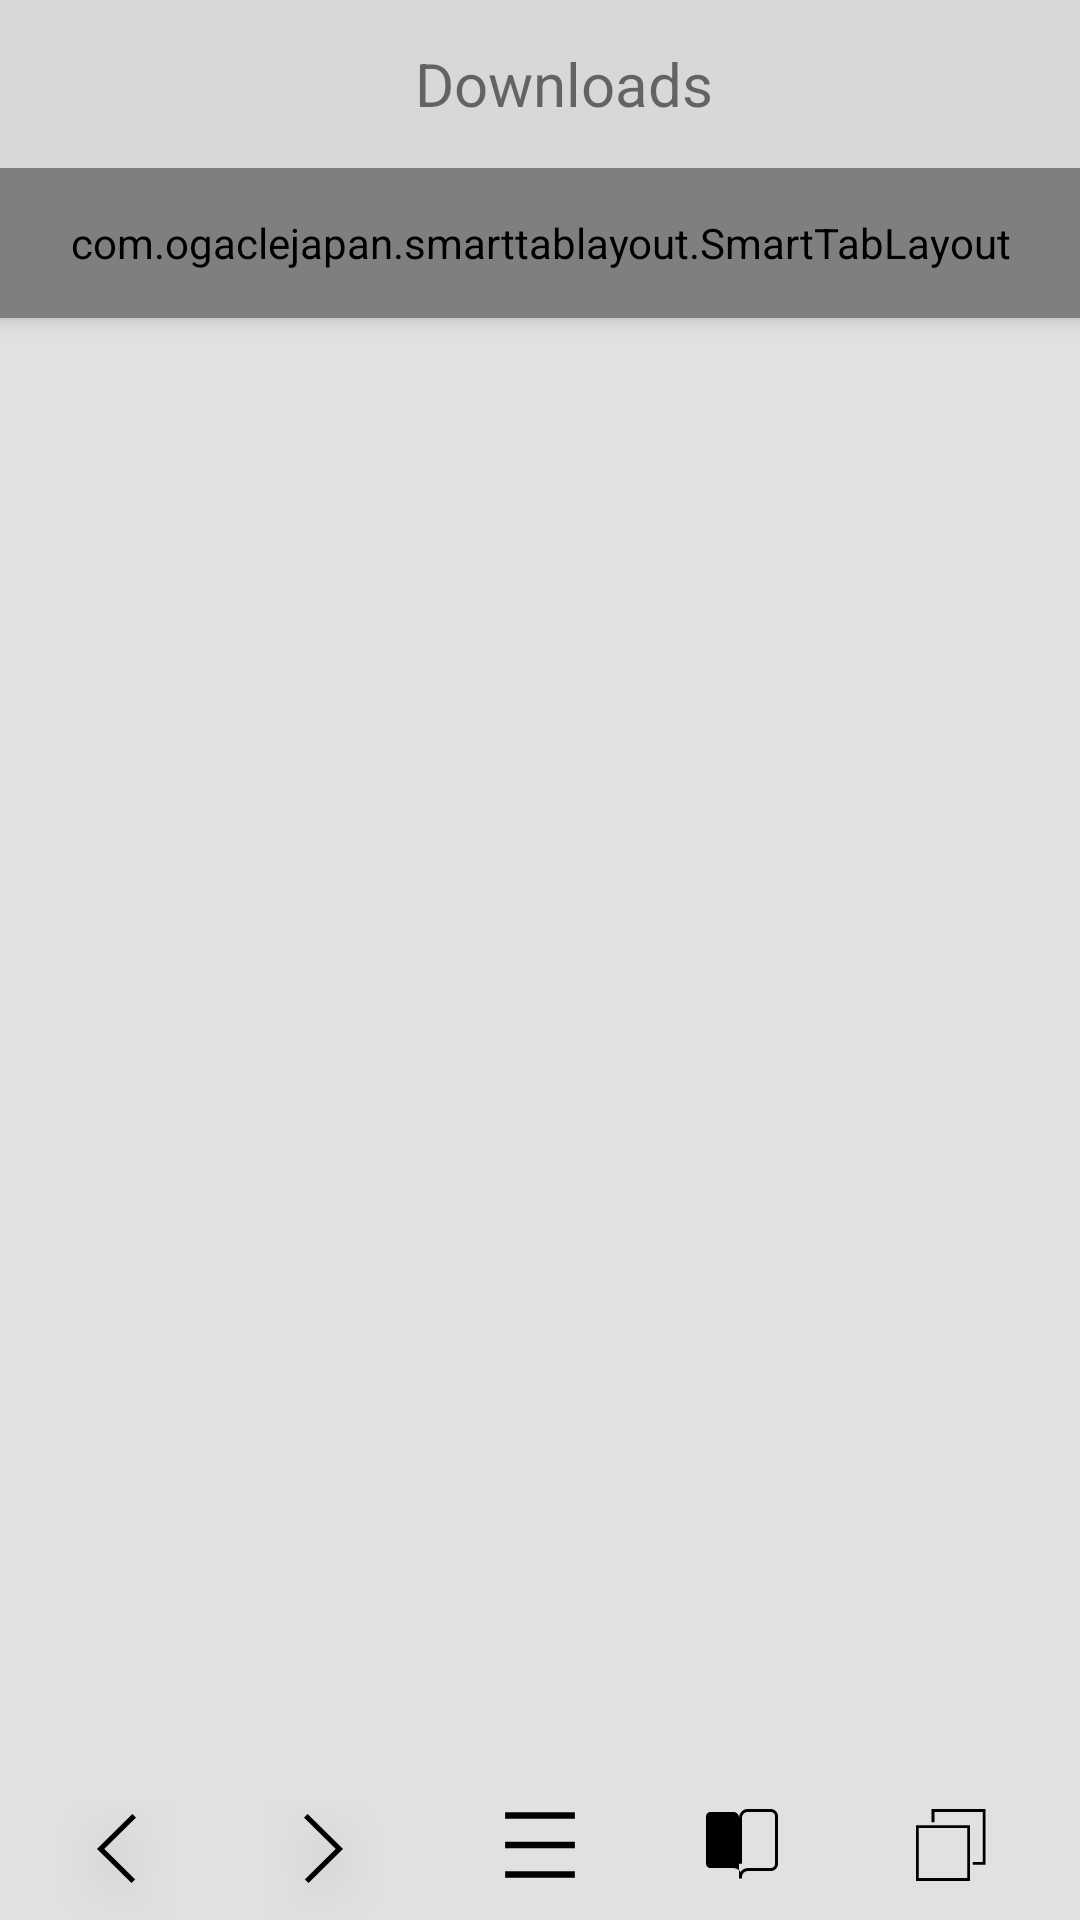

Where icons sit on this 1080×1920 app screen, as (x1, y1, x2, y2):
back: (97, 1814, 136, 1883)
bookmark: (706, 1809, 778, 1879)
forward: (304, 1814, 343, 1883)
tabs: (916, 1809, 986, 1881)
